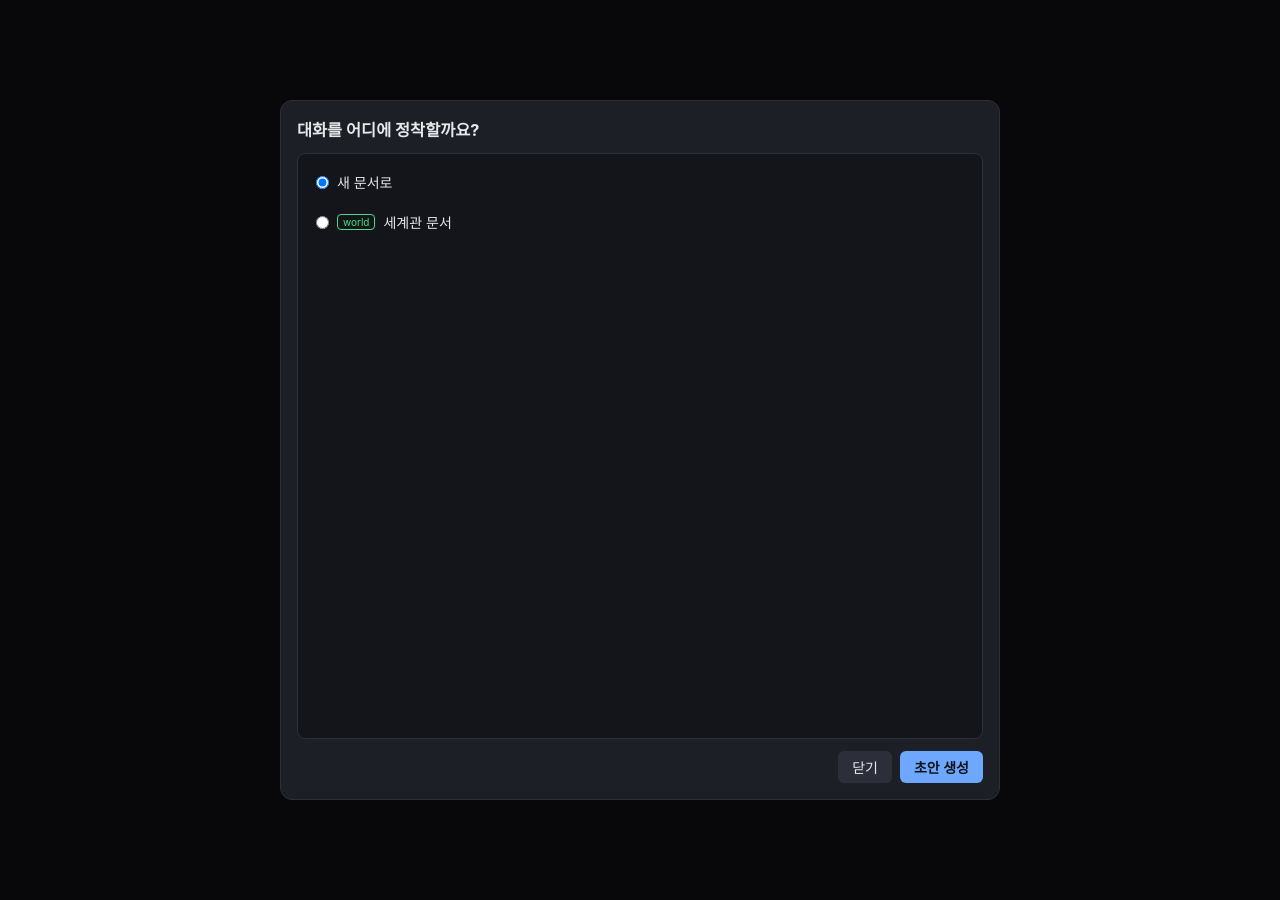
Test: HTTP 413 → detail 표시
What coordinates should you click on to do the following:
click the button "초안 생성"
I would click on:
 (941, 767)
Its box is top-left (900, 751), bottom-right (983, 783).
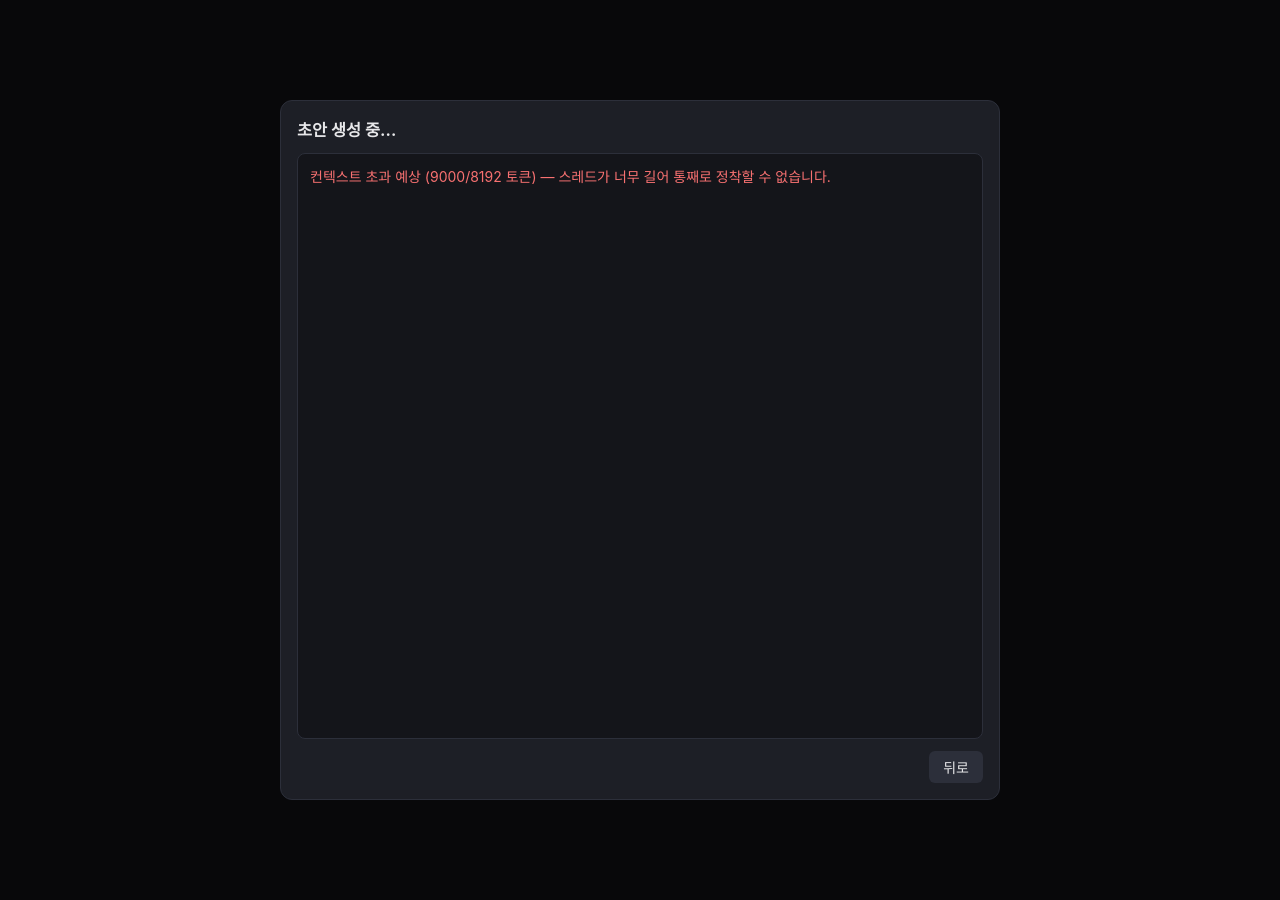
Now the text "컨텍스트 초과 예상 (9000/8192 토큰) — 스레드가 너무 길어 통째로 정착할 수 없습니다." is shown, box top-left (310, 168), bottom-right (831, 185)
